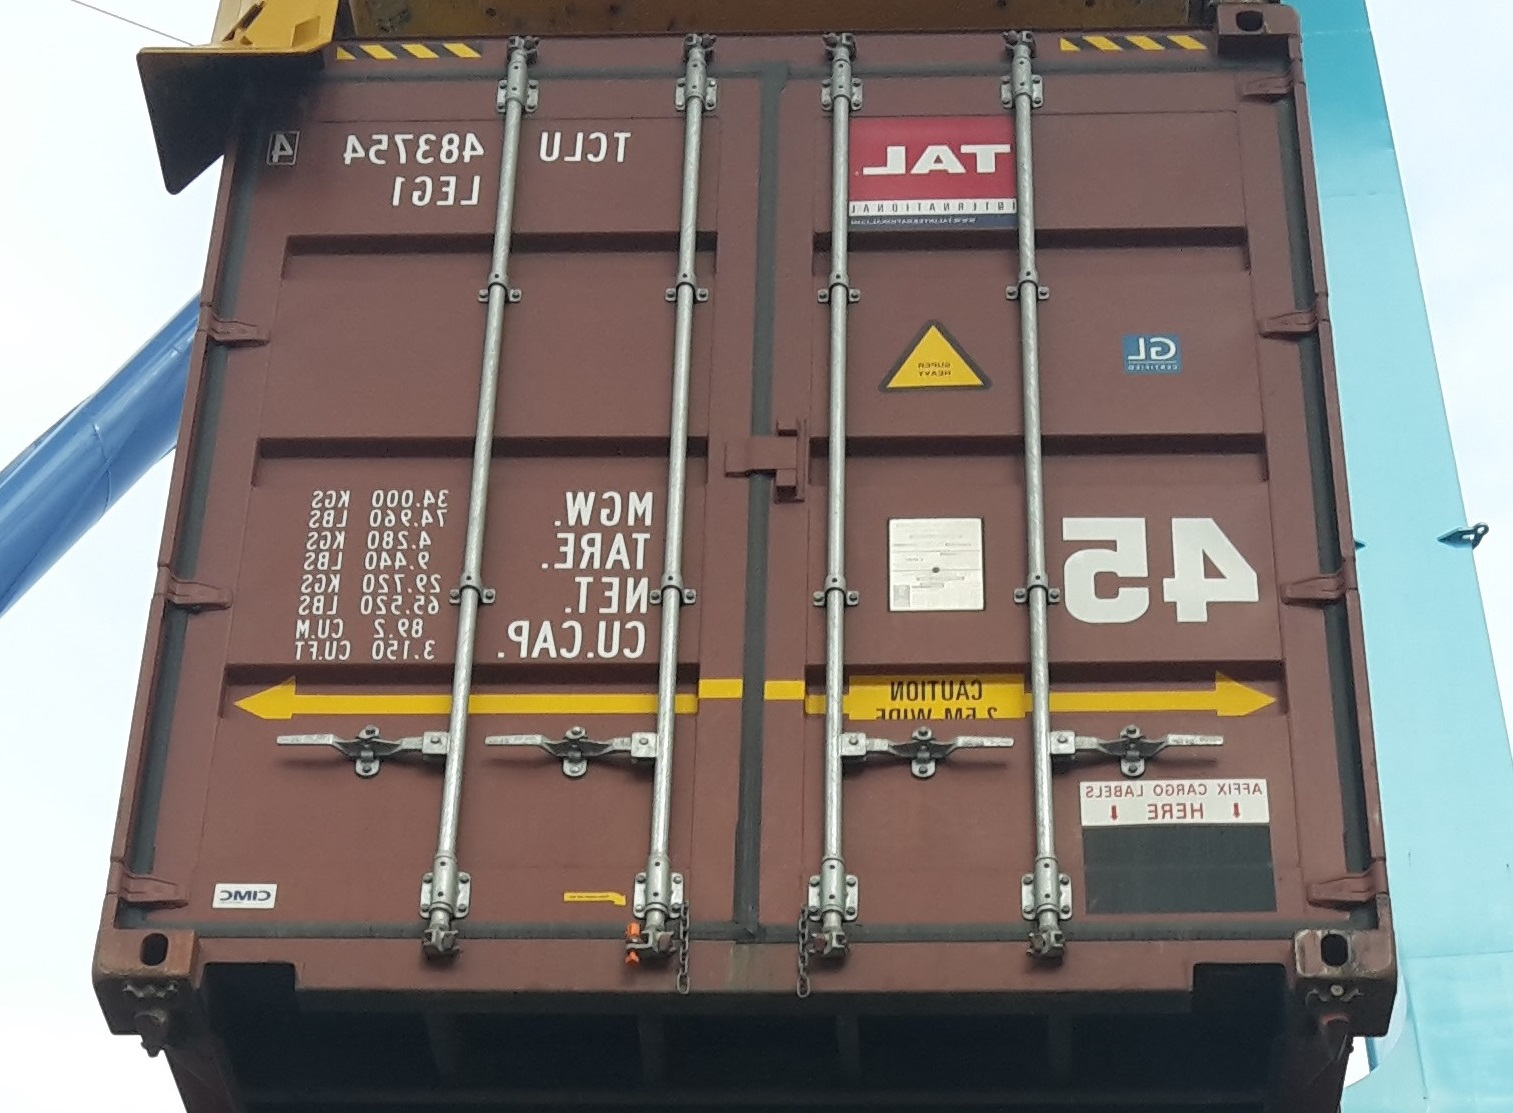container_door: (93, 7, 1385, 986)
